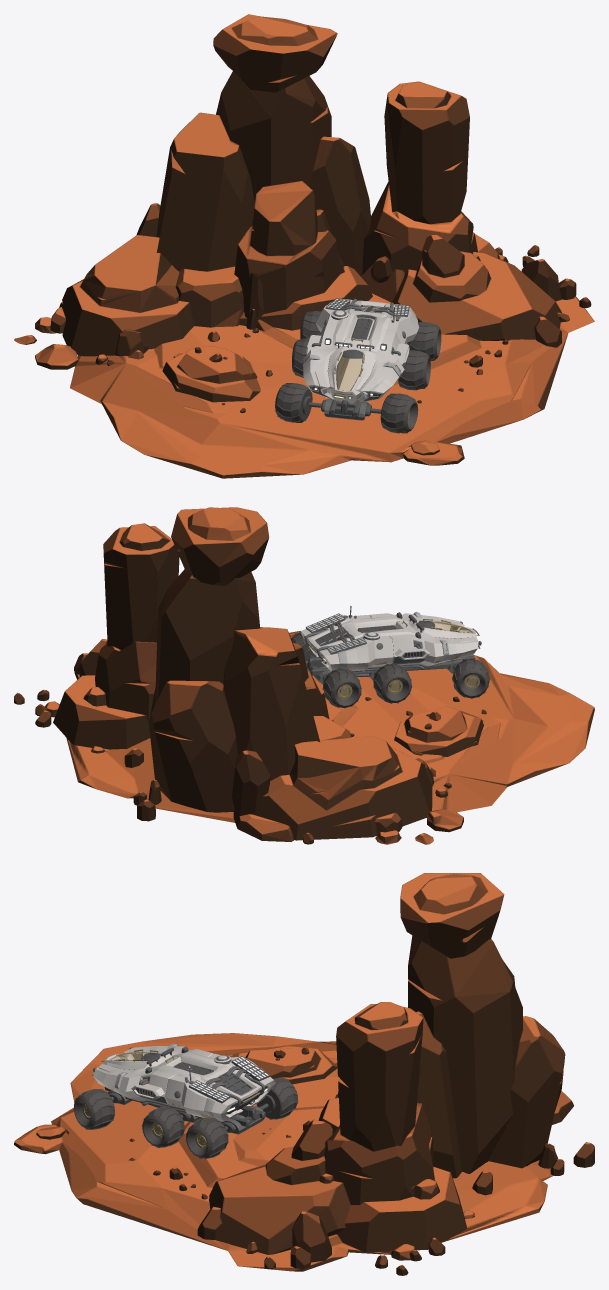
File: mars_rover.glb
The picture shows the model from 3 angles, top to bottom: view 1: azimuth 30°, elevation 25°; view 2: azimuth 150°, elevation 25°; view 3: azimuth 270°, elevation 25°; orthographic projection. The views are drawn at different scales.
Visible parts, largest first — view 1: Cylinder.216_96, Car_6, Wheel F.L_8, Wheel F.R_10, Wheel M.L_16, Wheel B.L_12; view 2: Cylinder.216_96, Car_6, Wheel F.B_14, Wheel M.R_18, Wheel F.R_10; view 3: Cylinder.216_96, Car_6, Wheel M.L_16, Wheel B.L_12, Wheel F.L_8, Wheel F.B_14.
Part boxes in pixels (box(x1,y1,x2,y2)): Cylinder.216_96: box(14, 14, 594, 478); Car_6: box(302, 298, 418, 420); Wheel F.L_8: box(380, 393, 418, 433); Wheel F.R_10: box(275, 383, 312, 422); Wheel M.L_16: box(398, 350, 430, 390); Wheel B.L_12: box(407, 322, 441, 360); Cylinder.216_96: box(14, 507, 594, 844); Car_6: box(301, 605, 481, 684); Wheel F.B_14: box(322, 668, 361, 708); Wheel M.R_18: box(372, 663, 412, 703); Wheel F.R_10: box(452, 658, 490, 698); Cylinder.216_96: box(14, 873, 594, 1275); Car_6: box(92, 1043, 275, 1134); Wheel M.L_16: box(141, 1106, 185, 1147); Wheel B.L_12: box(185, 1117, 228, 1158); Wheel F.L_8: box(73, 1089, 115, 1129); Wheel F.B_14: box(256, 1078, 298, 1119).
Bounding box in the file's own units: 14.63 × 7.65 × 14.54.
Materials: 18 (1 with a texture image).
